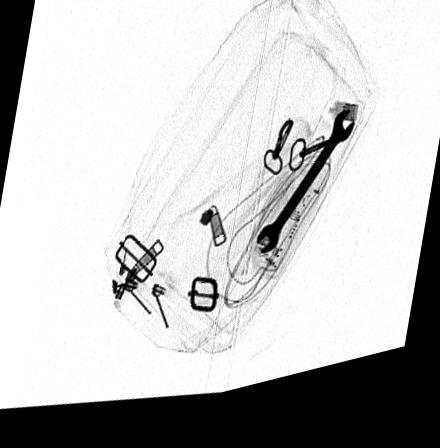Wrench: (251, 125, 356, 269)
